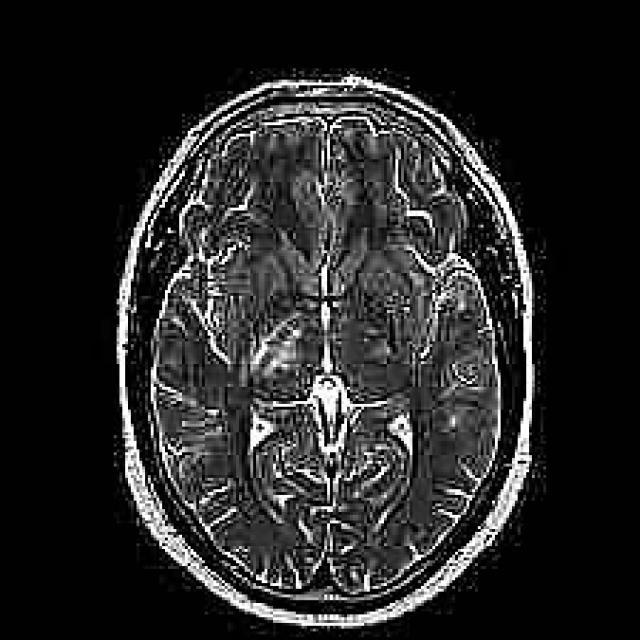notumor: (119, 74, 529, 623)
